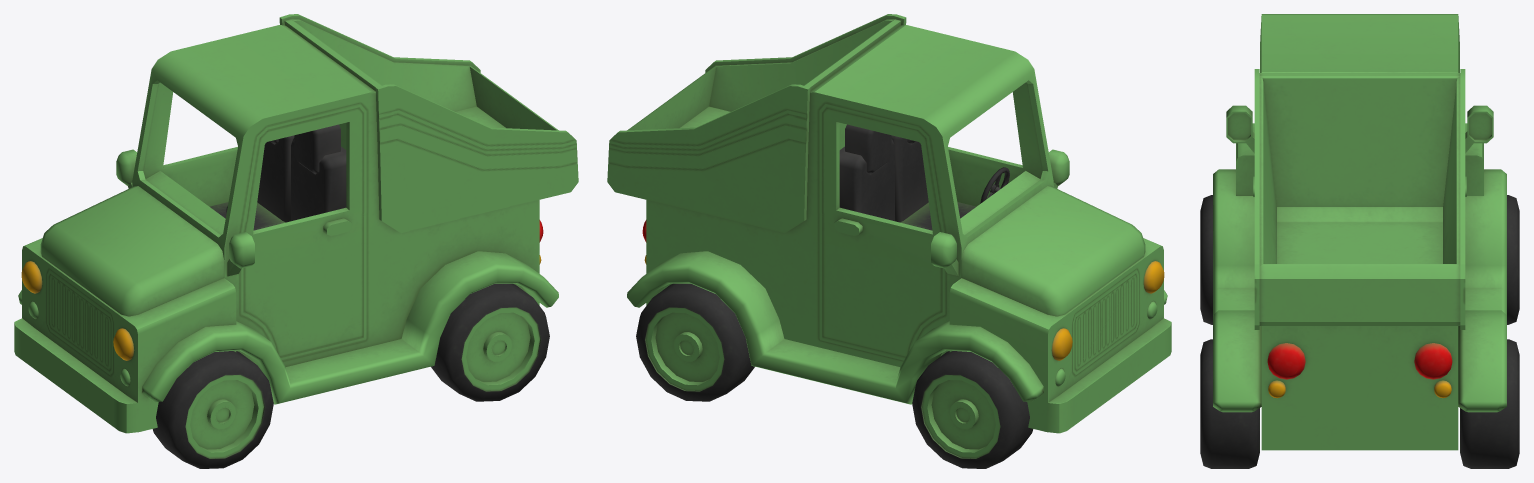
Rendered from SM_ToyTruck.fbx.
3 renders of one model, left to right at view 1: azimuth 30°, elevation 25°; view 2: azimuth 150°, elevation 25°; view 3: azimuth 270°, elevation 25°, orthographic. The views are drawn at different scales.
Visible parts, largest first — view 1: SM_ToyTruck_LOD0; view 2: SM_ToyTruck_LOD0; view 3: SM_ToyTruck_LOD0.
Boxes of the visible parts, x1,y1,x2,y2 form: SM_ToyTruck_LOD0: [14, 14, 578, 468]; SM_ToyTruck_LOD0: [607, 14, 1171, 468]; SM_ToyTruck_LOD0: [1200, 14, 1519, 468].
Bounding box in the file's own units: 43.04 × 24.09 × 28.58.
1 material, 1 textured.
